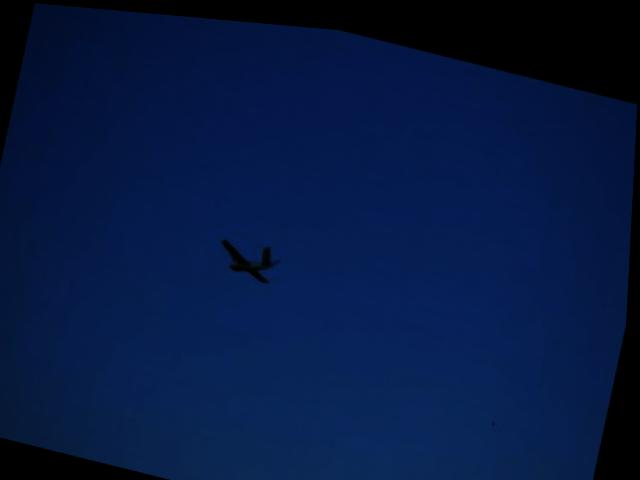uav: (207, 219, 292, 291)
